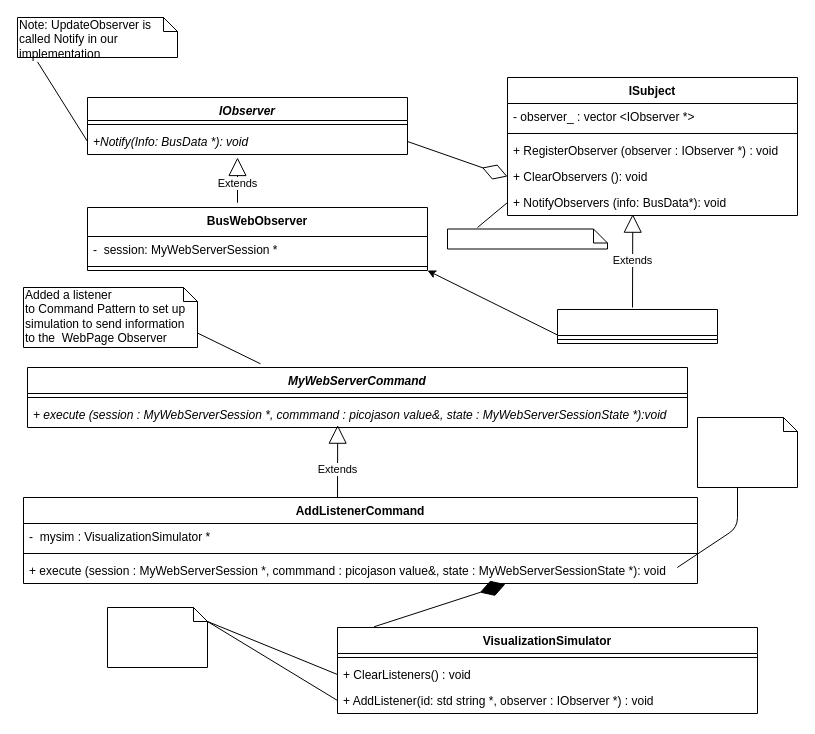
The diagram is 815 pixels wide and 734 high, and some of its shapes have lost their labels. The shapes that lost their labels are listed below. From the top down, each one's centre as x and y in pixels, then its label:
At [527,238]: "Note: Calls Notify".
At [637,326]: "Bus".
At [747,452]: "override is an attribute of the execute method declaration/defn".
At [157,637]: "Note: Methods added to Visualization Simulator".
